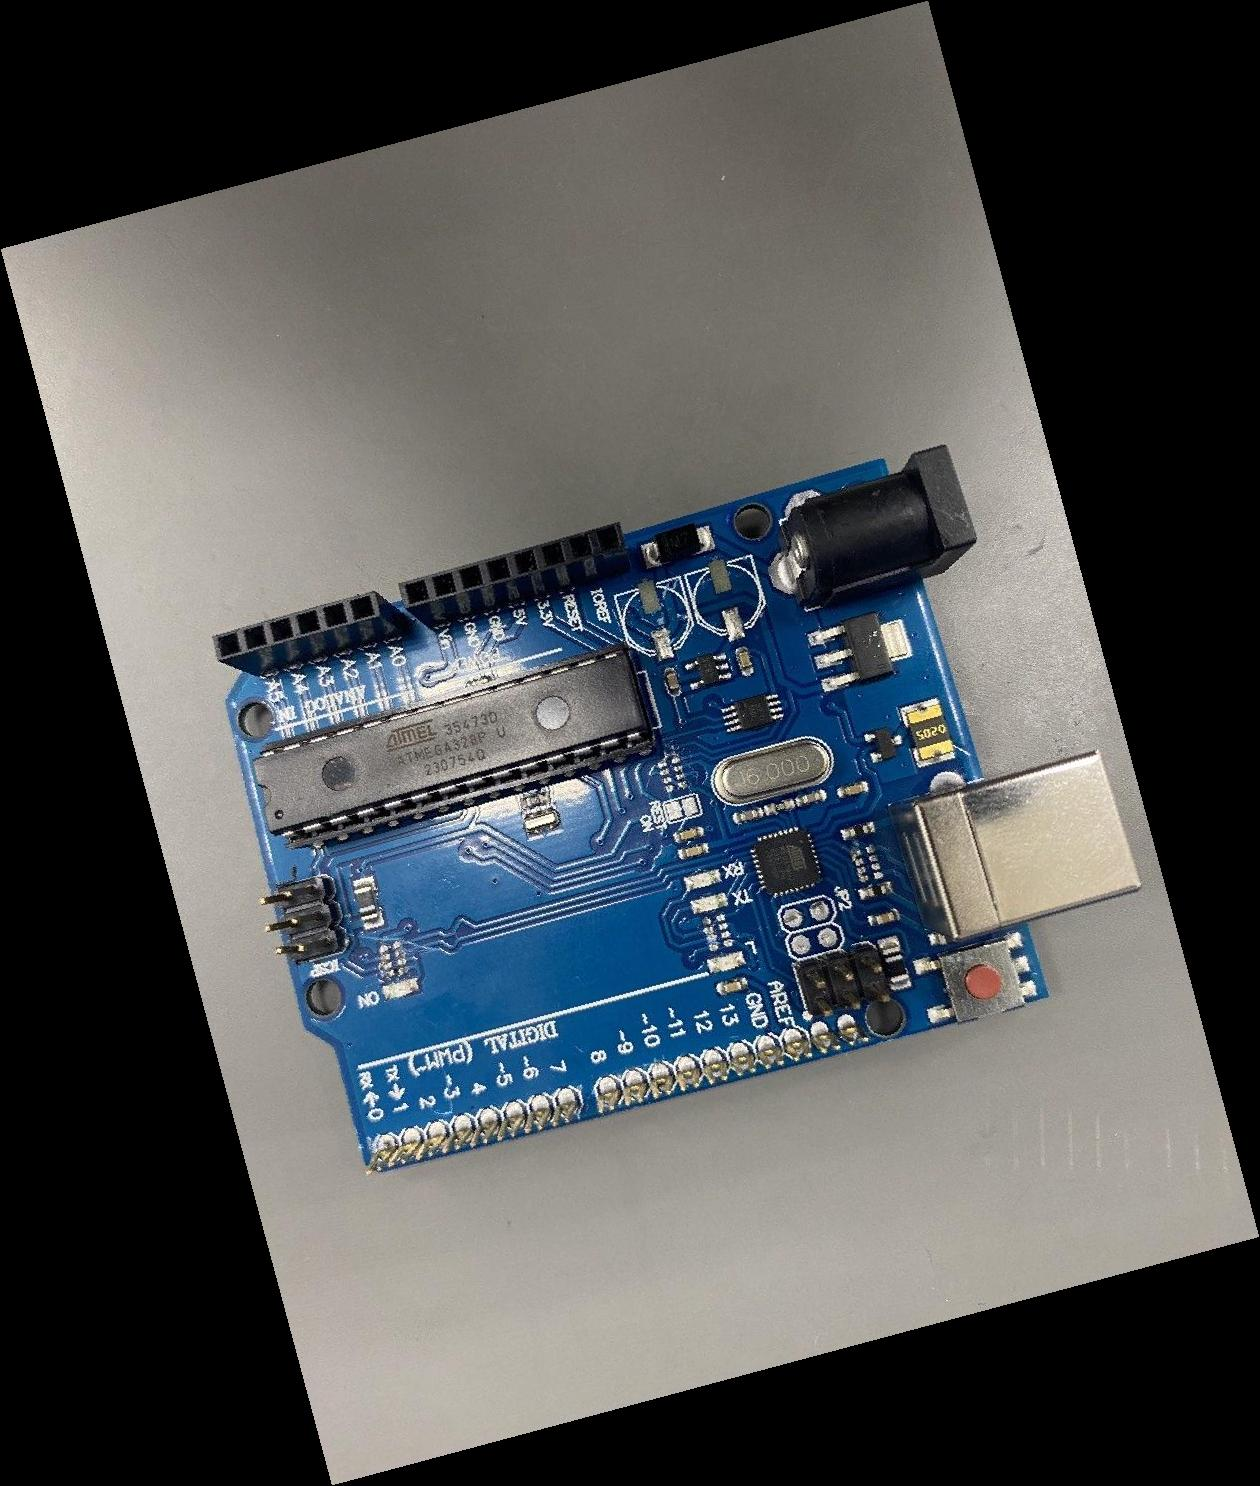ATmega328 chip: (252, 644, 655, 850)
Arduino board: (215, 444, 1142, 1175)
USB: (886, 750, 1141, 941)
pins: (397, 522, 630, 630), (214, 590, 404, 677)
